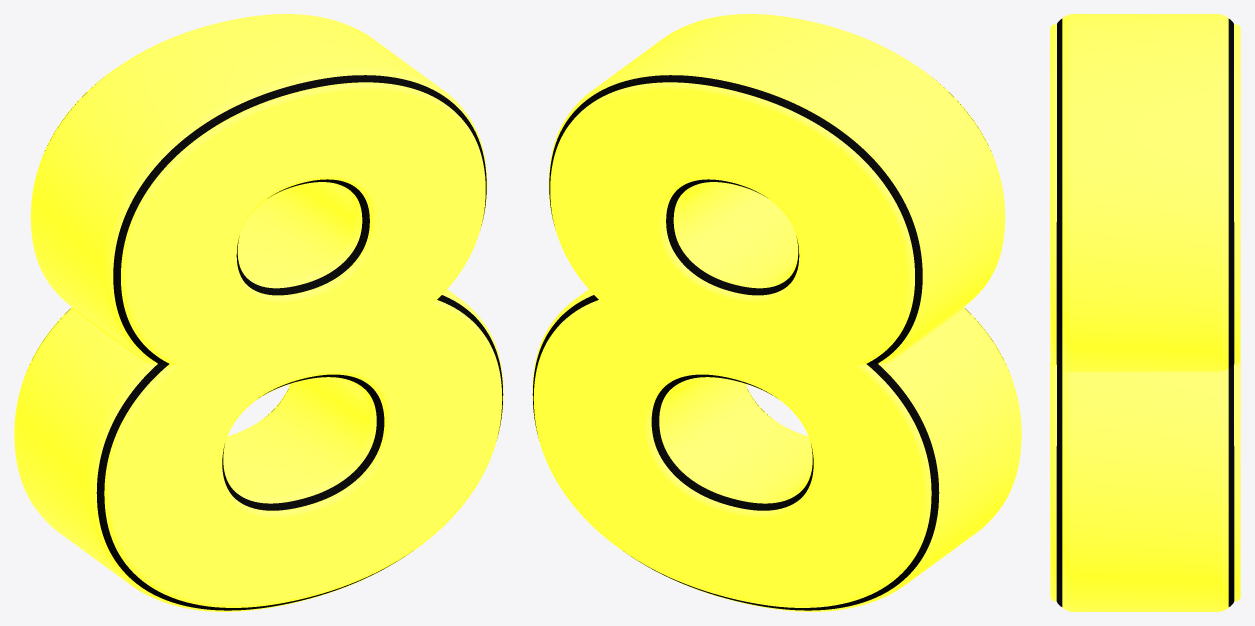
3 views of the same model, side by side, from view 1: azimuth 30°, elevation 25°; view 2: azimuth 150°, elevation 25°; view 3: azimuth 270°, elevation 25° (orthographic).
Parts seen in each view (by area): view 1: N_8_smaller, N_8_side, N_8_border; view 2: N_8_smaller, N_8_side, N_8_border; view 3: N_8_side, N_8_smaller, N_8_border.
Boxes of the visible parts, x1,y1,x2,y2 form: N_8_smaller: (24, 70, 502, 607); N_8_side: (14, 14, 503, 611); N_8_border: (43, 75, 503, 610); N_8_smaller: (533, 70, 1011, 607); N_8_side: (532, 14, 1021, 611); N_8_border: (532, 75, 992, 610); N_8_side: (1062, 14, 1228, 611); N_8_smaller: (1050, 24, 1240, 601); N_8_border: (1056, 19, 1234, 606).
Bounding box in the file's own units: 0.4696 × 0.5695 × 0.184.
